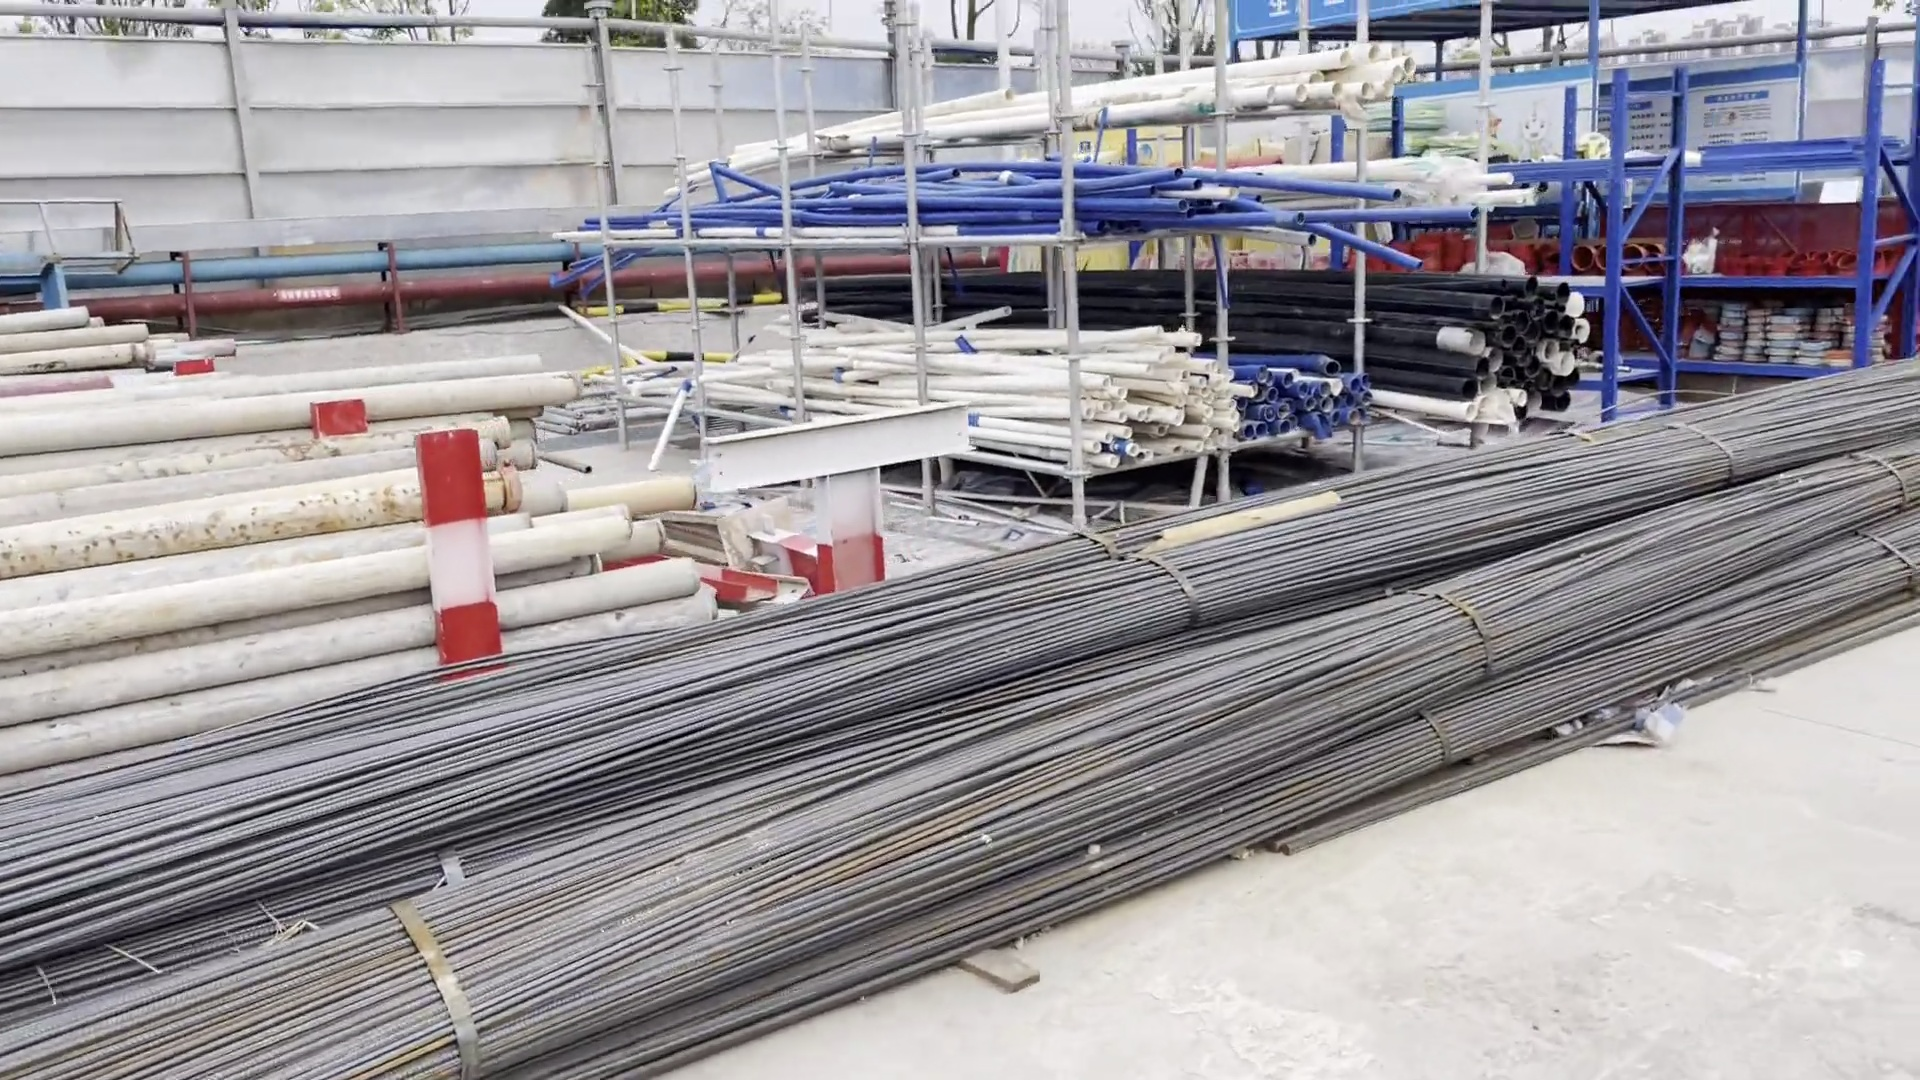rebar: (750, 462, 1510, 1038), (1, 591, 760, 1080), (1381, 345, 1920, 831)
slogan: (1588, 58, 1815, 196), (1408, 74, 1604, 156), (1218, 1, 1557, 44)
